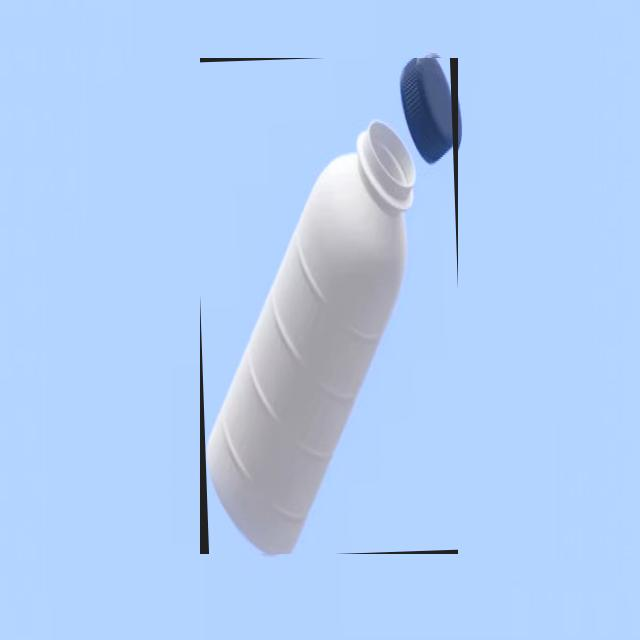Bottle: (201, 124, 419, 554)
